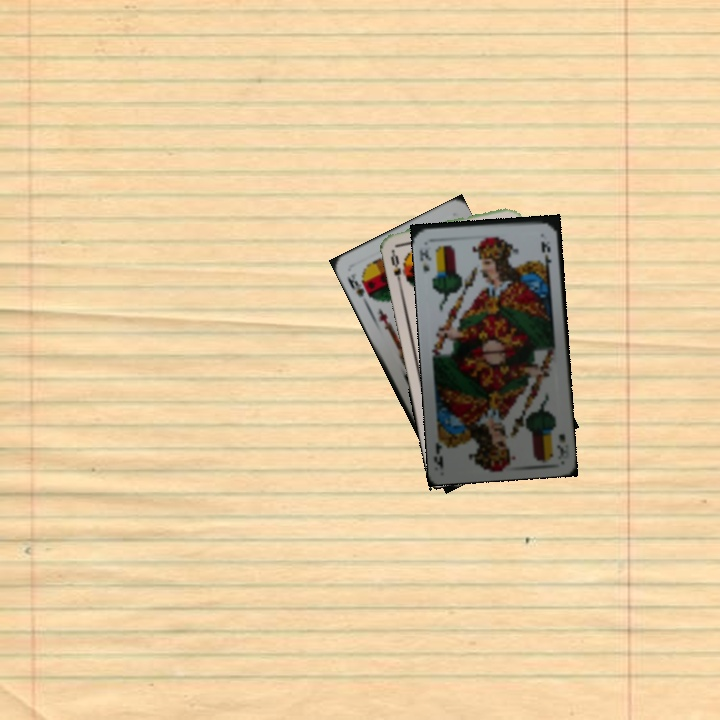EK: (416, 245, 434, 274), (553, 429, 569, 460)
SK: (343, 269, 373, 301)
SO: (387, 246, 404, 286)
